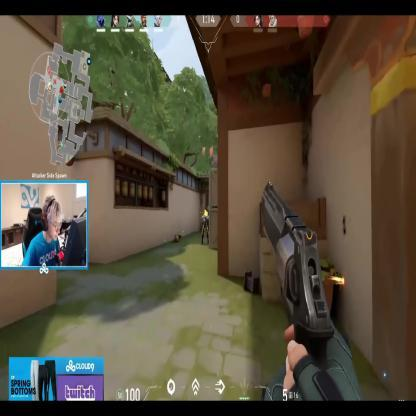enemy: (202, 208, 210, 245)
enemy_head: (204, 210, 206, 215)
